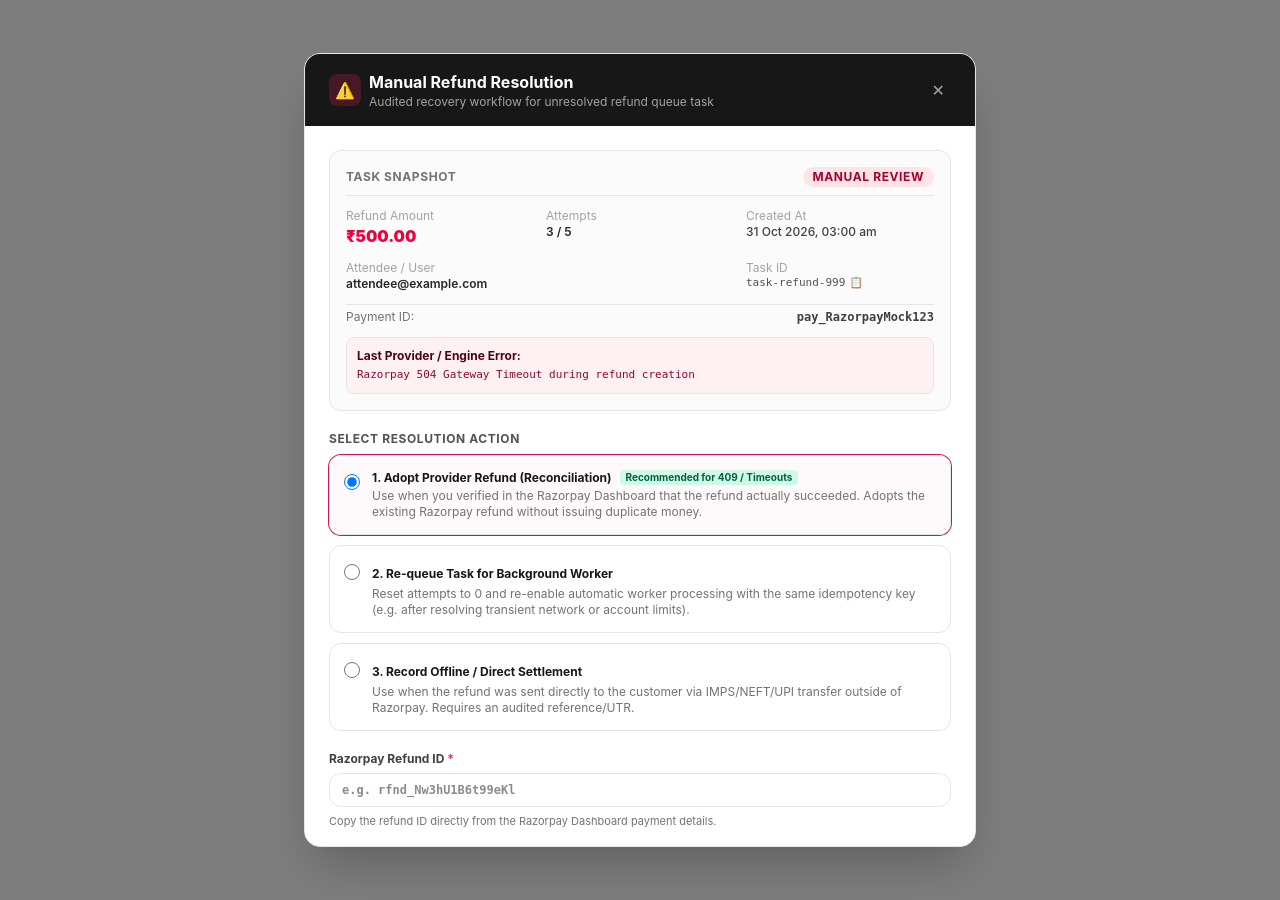
Scenario: RefundManualReviewModal (Financial Recovery & Invariants) › requires settlement reference and notes when selecting manual offline settlement
Note: Select Option 3: Manual Offline Settlement
Click the radio button labelled "Record Offline / Direct Settlement". click: coordinates (352, 670)
box: [344,662,360,678]
(page scrolled)
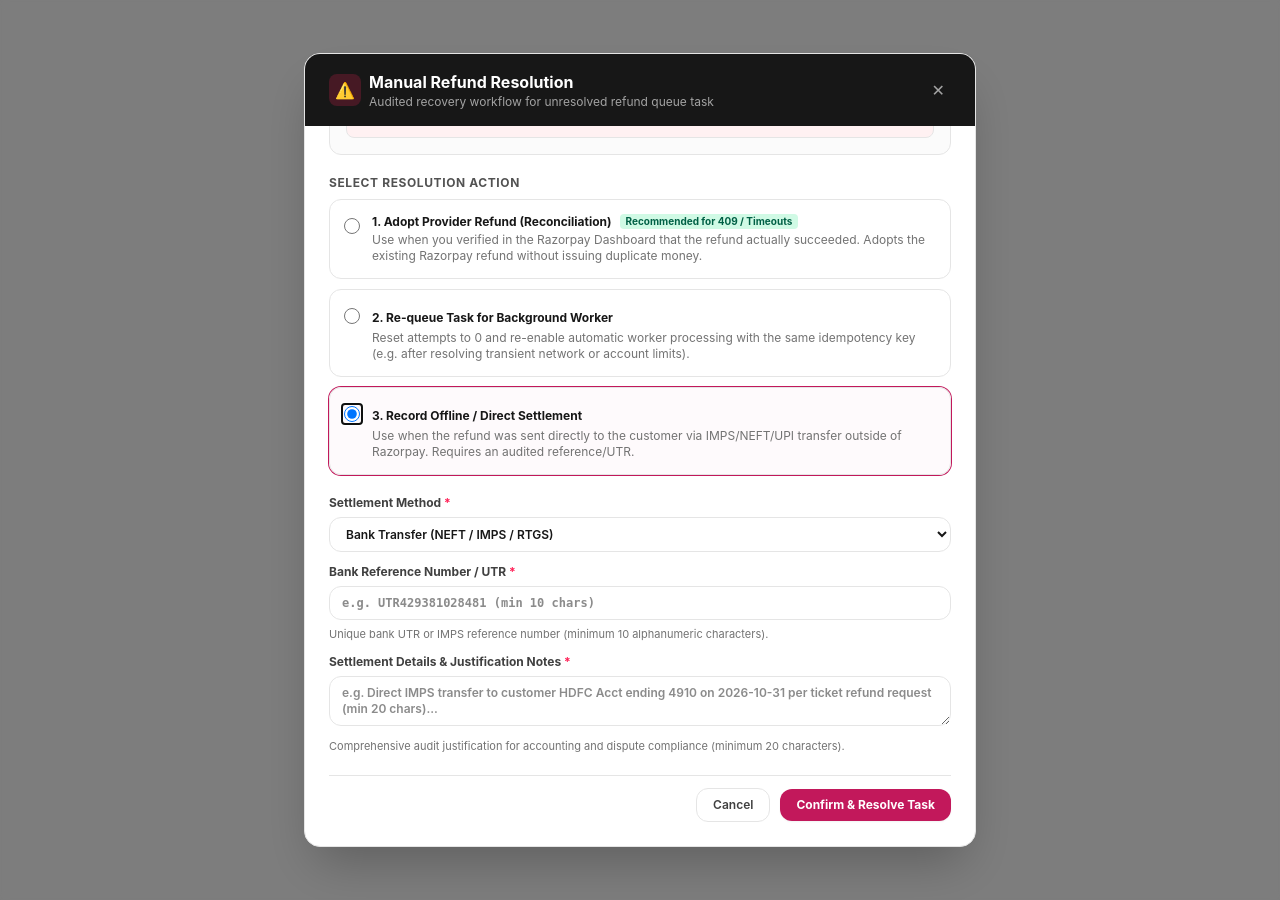
Click the button "Confirm & Resolve Task". click: coordinates (866, 805)
box: [780,789,951,821]
(page scrolled)
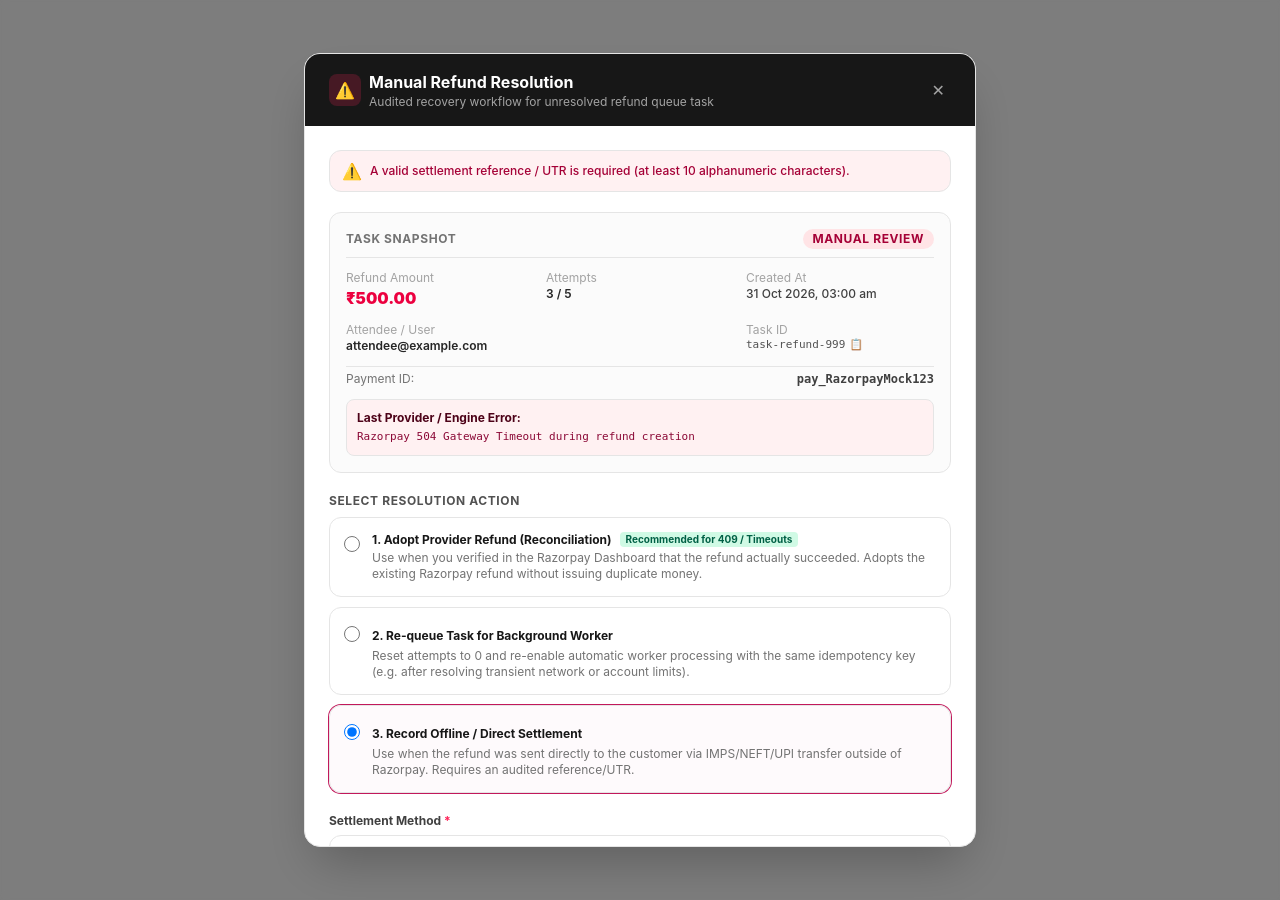
Now the text "A valid settlement reference / UTR is required" is shown, box [370,163,850,178]
